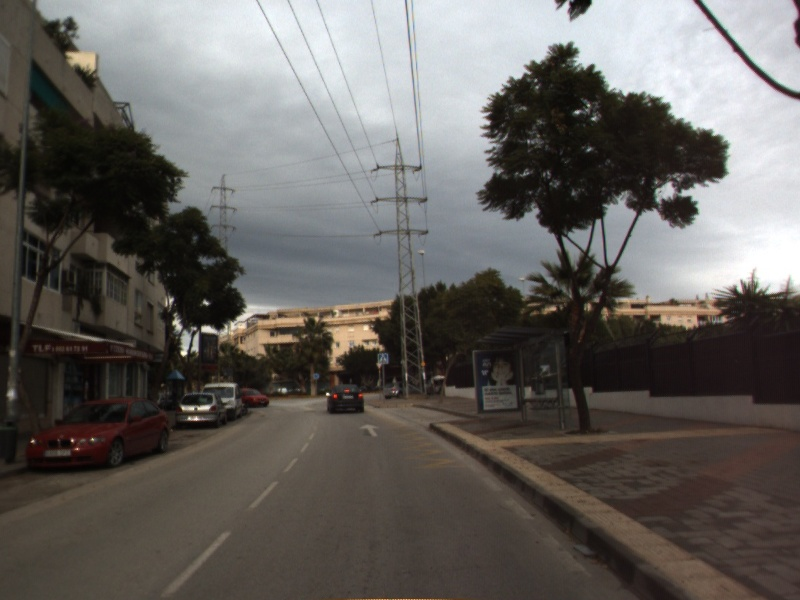STRAIGHT: (357, 422, 383, 439)
